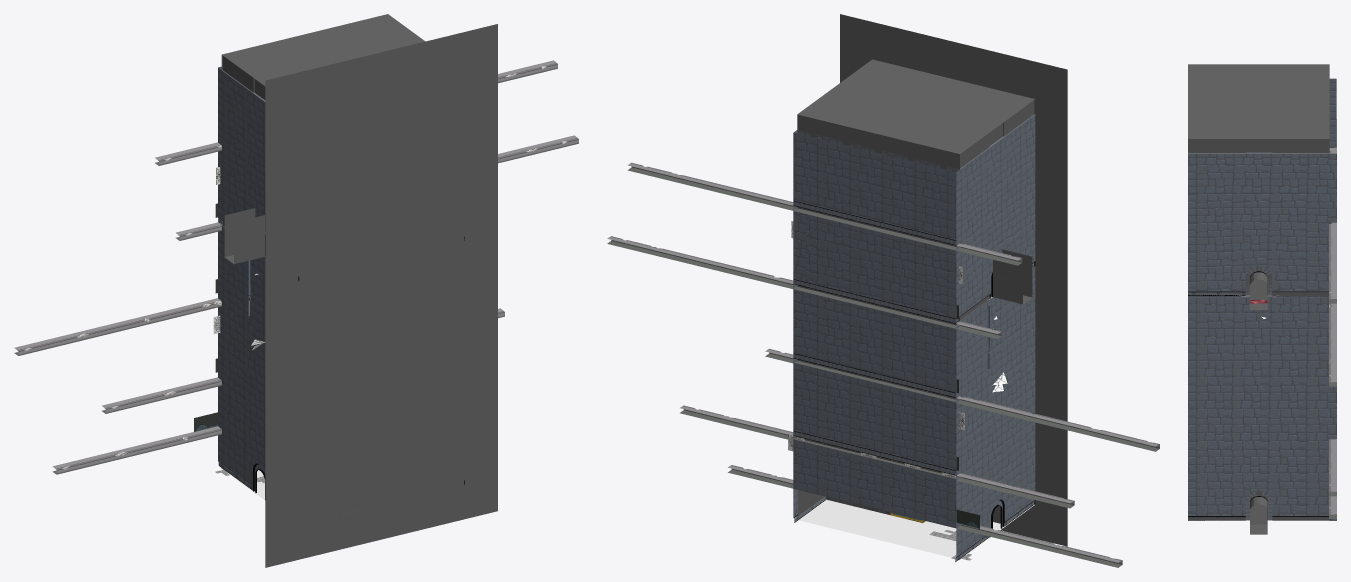
The model's file is gon_08_bake_split.dae.
3 views of the same model, side by side, from view 1: azimuth 30°, elevation 25°; view 2: azimuth 150°, elevation 25°; view 3: azimuth 270°, elevation 25° (orthographic). The views are drawn at different scales.
Parts seen in each view (by area): view 1: a_kabeoku02, kuro5, polySurface205_q00079_part0, a_ten_01, polySurface204_q00077_part0, pCube151_q00117_part0, polySurface812_q00003, pCube151_q00115_part0, pCube151_q00118_part0, pCube151_q00116_part0, pCube151_q00119_part0; view 2: kuro5, polySurface205_q00079_part0, a_ten_01, polySurface836_q00031_part0, polySurface836_q00028_part0, polySurface836_q00020_part0, polySurface204_q00077_part0, polySurface836_q00023_part0, polySurface415_q00018, yuka5, a_kabeoku01, pCube151_q00119_part0 (+11 smaller); view 3: polySurface205_q00078_part0, polySurface204_q00076_part0, a_ten_01, a_kabeyoko_012, pCube151_q00119_part0, polySurface204_q00076_part1, pCube151_q00118_part0, a_kabeyoko_013, polySurface204_q00077_part0, polySurface205_q00078_part1, pCube151_q00116_part0, polySurface822_q00073 (+1 smaller).
Boxes of the visible parts, bbox=[...] form: a_kabeoku02: bbox=[298, 75, 464, 523]; kuro5: bbox=[265, 24, 497, 567]; polySurface205_q00079_part0: bbox=[218, 224, 265, 486]; a_ten_01: bbox=[222, 14, 425, 85]; polySurface204_q00077_part0: bbox=[218, 68, 265, 227]; pCube151_q00117_part0: bbox=[14, 298, 221, 355]; polySurface812_q00003: bbox=[224, 208, 264, 264]; pCube151_q00115_part0: bbox=[52, 426, 221, 474]; pCube151_q00118_part0: bbox=[176, 135, 578, 240]; pCube151_q00116_part0: bbox=[102, 308, 504, 413]; pCube151_q00119_part0: bbox=[155, 60, 557, 165]; kuro5: bbox=[840, 14, 1067, 546]; polySurface205_q00079_part0: bbox=[956, 266, 1035, 556]; a_ten_01: bbox=[797, 59, 1034, 153]; polySurface836_q00031_part0: bbox=[793, 362, 956, 470]; polySurface836_q00028_part0: bbox=[793, 132, 956, 240]; polySurface836_q00020_part0: bbox=[793, 289, 956, 392]; polySurface204_q00077_part0: bbox=[956, 115, 1035, 318]; polySurface836_q00023_part0: bbox=[806, 214, 956, 318]; polySurface415_q00018: bbox=[793, 439, 956, 528]; yuka5: bbox=[798, 499, 1034, 557]; a_kabeoku01: bbox=[797, 114, 959, 473]; pCube151_q00119_part0: bbox=[627, 162, 1022, 265]; polySurface205_q00078_part0: bbox=[1188, 296, 1336, 515]; polySurface204_q00076_part0: bbox=[1188, 153, 1336, 291]; a_ten_01: bbox=[1188, 64, 1329, 138]; a_kabeyoko_012: bbox=[1188, 139, 1329, 295]; pCube151_q00119_part0: bbox=[1329, 119, 1336, 303]; polySurface204_q00076_part1: bbox=[1188, 266, 1328, 295]; pCube151_q00118_part0: bbox=[1329, 303, 1336, 386]; a_kabeyoko_013: bbox=[1188, 296, 1329, 520]; polySurface204_q00077_part0: bbox=[1329, 78, 1336, 147]; polySurface205_q00078_part1: bbox=[1188, 492, 1336, 520]; pCube151_q00116_part0: bbox=[1329, 439, 1336, 496]; polySurface822_q00073: bbox=[1250, 504, 1267, 524].
Size of the model in its own units: 168 by 140 by 42.
